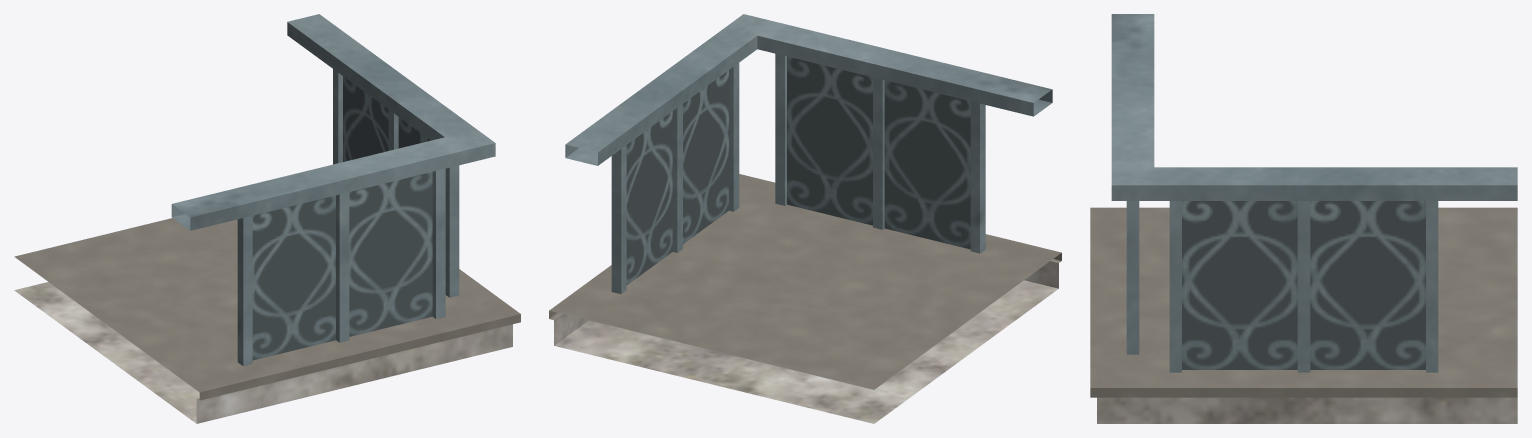
File: sb_obj_outdoor041_Balcony02c.fbx
3 renders of one model, left to right at view 1: azimuth 30°, elevation 25°; view 2: azimuth 150°, elevation 25°; view 3: azimuth 270°, elevation 25°, orthographic. The views are drawn at different scales.
Visible parts, largest first — view 1: iron_corner_L; view 2: iron_corner_L; view 3: iron_corner_L.
Boxes of the visible parts, box(x1,y1,x2,y2) form: iron_corner_L: box(14, 14, 520, 423); iron_corner_L: box(549, 14, 1061, 423); iron_corner_L: box(1090, 14, 1517, 423).
Bounding box in the file's own units: 1 × 0.6 × 1.
